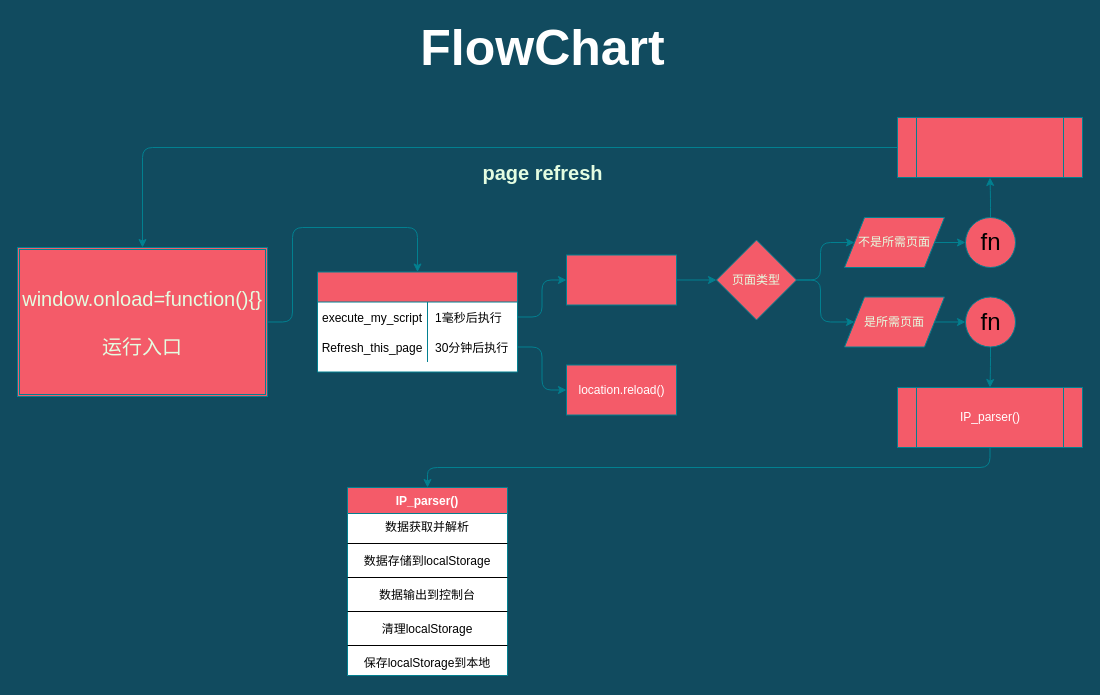
This 1100x695 diagram has some shape labels left out. Each missing label, with the box of its shape:
Check_this_page(): (566, 254, 676, 305)
setTimeout: (316, 271, 518, 372)
Show_100_Type_socks(): (896, 116, 1082, 178)
